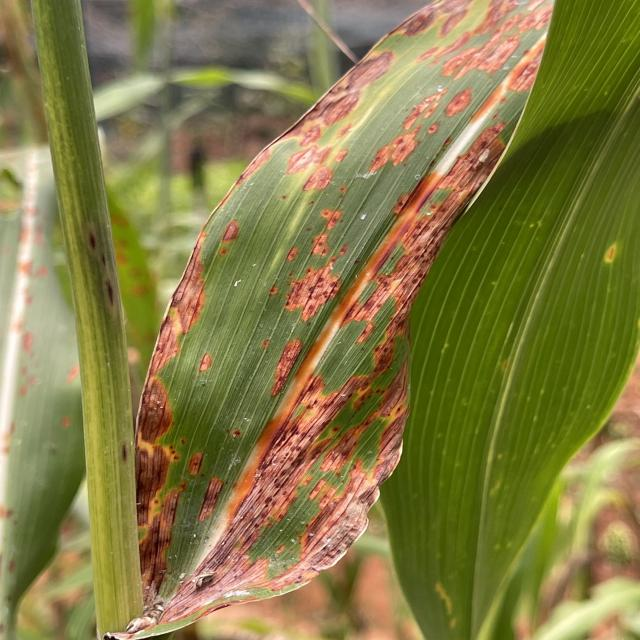millet_healthy: (381, 0, 640, 640)
millet_rust: (138, 1, 540, 596), (0, 133, 169, 639)
